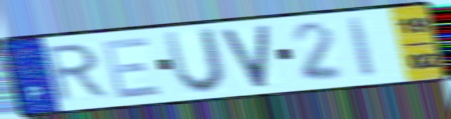2: (290, 20, 348, 83)
E: (99, 34, 166, 101)
I: (345, 15, 380, 80)
R: (44, 41, 113, 105)
U: (161, 26, 229, 96)
V: (219, 23, 273, 91)
